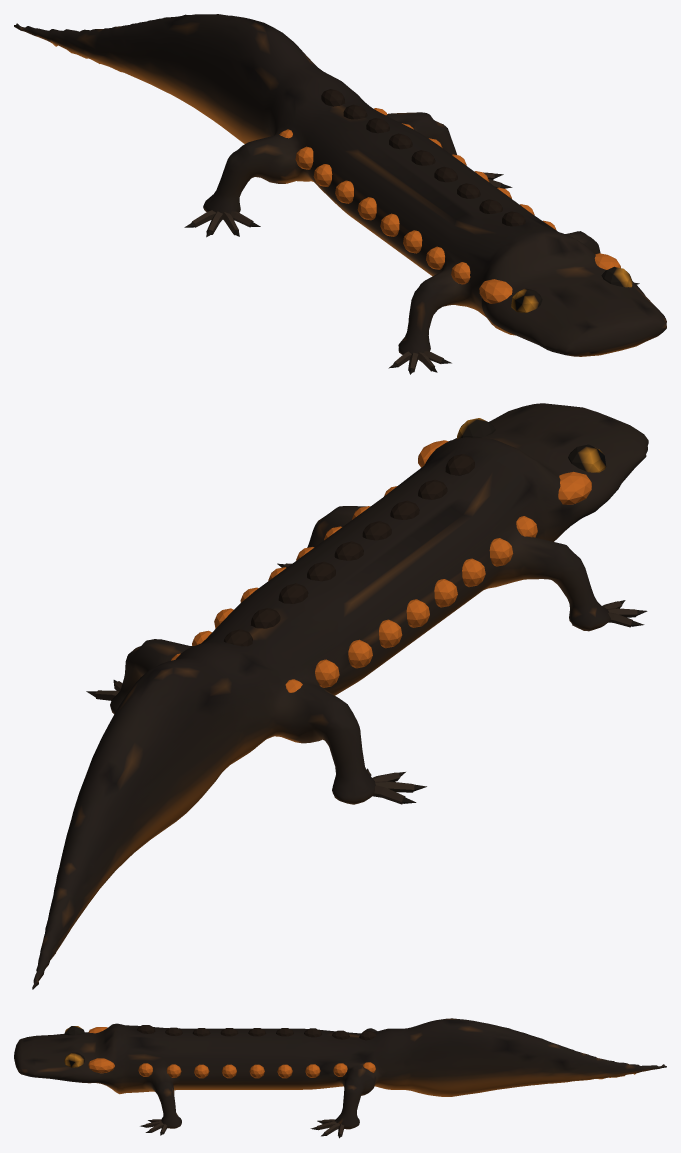
The model's file is ChelotritonParadoxus.fbx.
3 views of the same model, one above another, from view 1: azimuth 30°, elevation 25°; view 2: azimuth 150°, elevation 25°; view 3: azimuth 270°, elevation 25° (orthographic). The views are drawn at different scales.
Visible parts, largest first — view 1: ChelotritonParadoxus; view 2: ChelotritonParadoxus; view 3: ChelotritonParadoxus.
Part boxes in pixels (x1,y1,x2,y2): ChelotritonParadoxus: (14,14,666,374); ChelotritonParadoxus: (32,403,648,989); ChelotritonParadoxus: (14,1018,666,1138).
Size of the model in its own units: 0.3511 by 0.1403 by 1.1.
